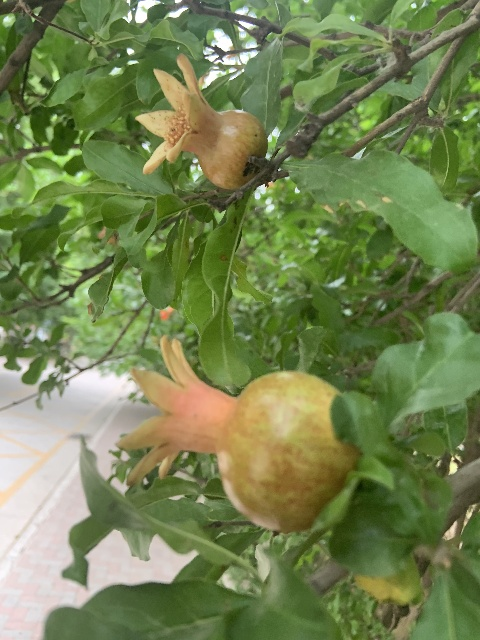early-fruit: (118, 335, 360, 533), (135, 53, 267, 190)
